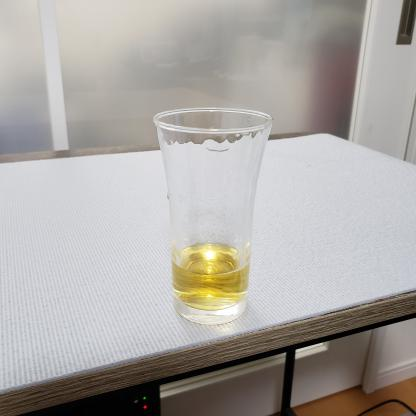glass: (146, 90, 296, 342)
